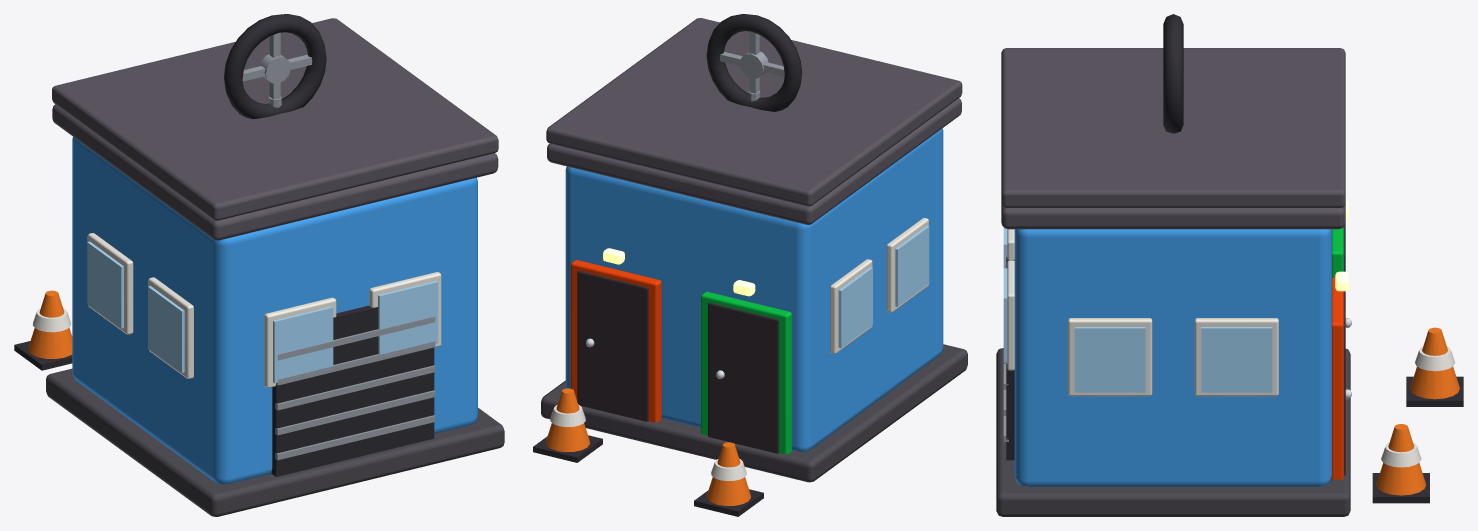
Rendered from building_driving_center_t1.glb.
3 views of the same model, side by side, from view 1: azimuth 30°, elevation 25°; view 2: azimuth 150°, elevation 25°; view 3: azimuth 270°, elevation 25° (orthographic). The views are drawn at different scales.
Parts seen in each view (by area): view 1: Walls, Roof.Parapet, Plinth, BayDoor, Roof.Slab, BaySlat, Sign.Wheel, WinB0.Pane.001, WinB0.Pane, WinL0.Pane, WinL0.Pane.001, Cone2.Cone (+7 smaller); view 2: Walls, Roof.Parapet, Plinth, Exit.Leaf, Entry.Leaf, Roof.Slab, Sign.Wheel, Exit.Frame, Entry.Frame, WinL0.Pane.001, WinL0.Pane, Cone1.Cone (+8 smaller); view 3: Walls, Roof.Parapet, Plinth, Roof.Slab, WinR0.Pane, WinR0.Pane.001, Sign.Wheel, Exit.Frame, WinR0.Frame, WinR0.Frame.001, Cone2.Cone, Cone1.Cone (+7 smaller).
Boxes of the visible parts, x1=… form: Walls: x1=72, y1=137, x2=477, y2=484; Roof.Parapet: x1=52, y1=18, x2=498, y2=220; Plinth: x1=46, y1=368, x2=504, y2=516; BayDoor: x1=271, y1=305, x2=434, y2=476; Roof.Slab: x1=52, y1=104, x2=498, y2=240; BaySlat: x1=275, y1=316, x2=435, y2=460; Sign.Wheel: x1=224, y1=14, x2=326, y2=119; WinB0.Pane.001: x1=378, y1=281, x2=438, y2=356; WinB0.Pane: x1=273, y1=306, x2=333, y2=383; WinL0.Pane: x1=148, y1=286, x2=184, y2=372; WinL0.Pane.001: x1=87, y1=241, x2=123, y2=328; Cone2.Cone: x1=28, y1=290, x2=72, y2=358; Walls: x1=565, y1=128, x2=943, y2=451; Roof.Parapet: x1=546, y1=18, x2=962, y2=206; Plinth: x1=541, y1=344, x2=967, y2=482; Exit.Leaf: x1=577, y1=271, x2=648, y2=421; Entry.Leaf: x1=708, y1=302, x2=778, y2=453; Roof.Slab: x1=547, y1=98, x2=961, y2=224; Sign.Wheel: x1=706, y1=14, x2=802, y2=111; Exit.Frame: x1=570, y1=260, x2=661, y2=422; Entry.Frame: x1=701, y1=291, x2=791, y2=454; WinL0.Pane.001: x1=838, y1=267, x2=872, y2=348; WinL0.Pane: x1=895, y1=226, x2=929, y2=306; Cone1.Cone: x1=546, y1=388, x2=589, y2=452; Walls: x1=1014, y1=229, x2=1331, y2=486; Roof.Parapet: x1=1001, y1=48, x2=1345, y2=207; Plinth: x1=996, y1=348, x2=1350, y2=516; Roof.Slab: x1=1001, y1=204, x2=1345, y2=229; WinR0.Pane: x1=1074, y1=327, x2=1145, y2=392; WinR0.Pane.001: x1=1201, y1=327, x2=1272, y2=392; Sign.Wheel: x1=1163, y1=14, x2=1183, y2=133; Exit.Frame: x1=1331, y1=277, x2=1343, y2=479; WinR0.Frame: x1=1068, y1=318, x2=1152, y2=396; WinR0.Frame.001: x1=1194, y1=318, x2=1278, y2=396; Cone2.Cone: x1=1410, y1=327, x2=1459, y2=399; Cone1.Cone: x1=1376, y1=424, x2=1426, y2=495.
Size of the model in its own units: 2.1 by 2.78 by 2.77.
